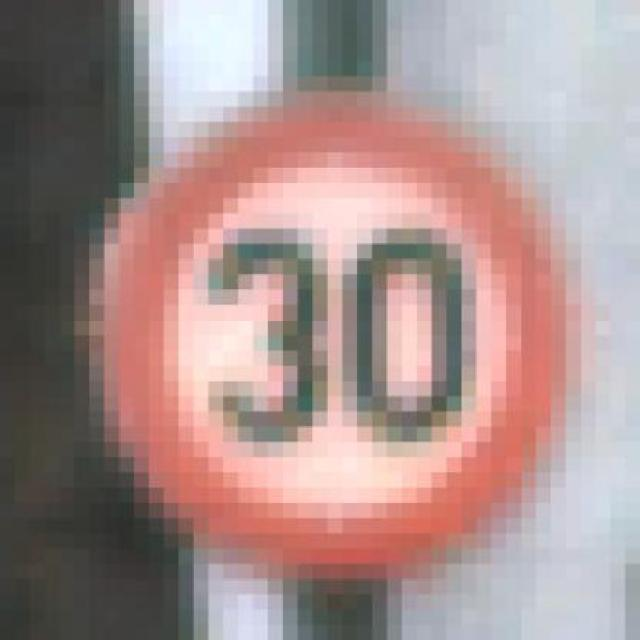Speed Limit 30 KMPh: (59, 45, 596, 610)
